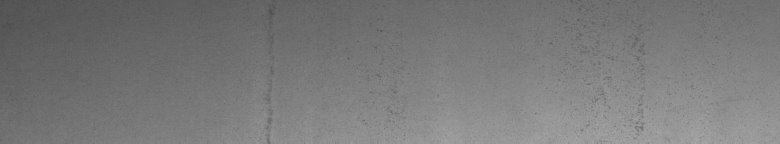ib: (580, 38, 645, 131)
